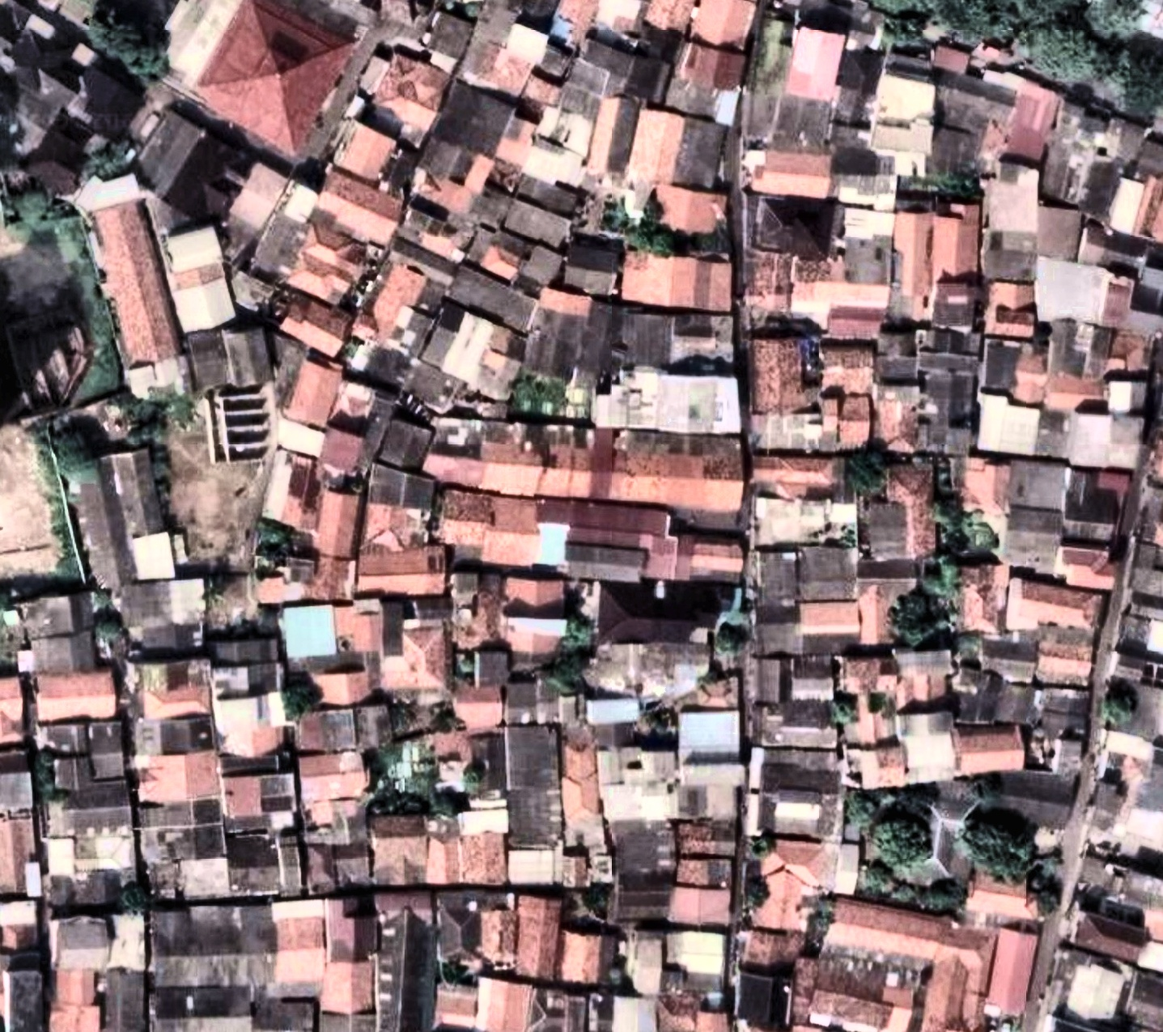building: (140, 0, 359, 161), (421, 413, 746, 512), (787, 891, 998, 1032), (736, 228, 898, 351), (584, 572, 722, 709), (62, 445, 177, 597), (86, 196, 186, 370), (122, 103, 255, 231), (150, 900, 275, 1031), (1025, 97, 1150, 224), (551, 466, 680, 583), (740, 11, 845, 149), (825, 893, 998, 974), (552, 26, 667, 140), (828, 651, 914, 794), (591, 364, 744, 437), (924, 65, 1014, 183), (136, 795, 233, 902), (456, 0, 555, 103), (864, 47, 942, 177), (624, 102, 728, 198), (461, 210, 569, 302), (431, 485, 546, 570), (1065, 847, 1163, 944), (157, 222, 239, 336), (0, 9, 95, 105), (912, 326, 981, 456), (210, 156, 293, 263), (246, 171, 325, 283), (282, 215, 375, 310), (309, 164, 410, 251), (15, 103, 104, 199), (610, 305, 735, 373), (57, 56, 150, 147), (755, 745, 843, 838), (376, 895, 436, 1031), (207, 636, 288, 735), (367, 44, 456, 134), (444, 310, 534, 399), (358, 461, 439, 559), (406, 133, 496, 220), (1039, 945, 1128, 1032), (114, 565, 214, 642), (519, 282, 595, 383), (430, 76, 519, 162), (619, 249, 736, 313), (859, 462, 936, 559), (444, 259, 542, 335), (504, 721, 563, 847), (596, 742, 682, 827), (519, 103, 601, 192), (296, 749, 372, 843), (379, 597, 452, 692), (20, 589, 98, 676), (411, 294, 490, 379), (118, 575, 206, 651), (744, 193, 839, 262), (555, 731, 607, 855), (186, 321, 276, 392), (499, 573, 568, 665), (272, 287, 357, 361), (359, 256, 431, 342), (392, 195, 477, 267), (1005, 574, 1104, 635), (261, 449, 332, 534), (990, 763, 1077, 832), (280, 349, 351, 433), (920, 946, 989, 1032), (623, 103, 688, 191), (202, 387, 275, 464), (294, 699, 394, 755), (43, 778, 134, 839), (435, 886, 509, 960), (982, 923, 1039, 1019), (997, 77, 1061, 162), (583, 90, 643, 180), (747, 332, 812, 415), (1056, 466, 1124, 544), (659, 65, 741, 129), (0, 67, 57, 159), (134, 747, 222, 806), (677, 707, 743, 785), (221, 766, 299, 832), (133, 656, 213, 720), (749, 862, 817, 937), (753, 495, 857, 544), (827, 142, 901, 210), (505, 671, 590, 730), (1065, 405, 1142, 470), (644, 531, 744, 581), (1119, 734, 1163, 846), (33, 665, 119, 722), (782, 18, 844, 97), (330, 116, 400, 185), (362, 459, 441, 520), (272, 898, 328, 984), (509, 891, 563, 980), (648, 180, 729, 239), (1065, 905, 1147, 963), (356, 544, 447, 595), (558, 233, 627, 300), (1035, 253, 1105, 319), (752, 695, 839, 748), (896, 707, 956, 783), (572, 296, 626, 380), (369, 812, 430, 886), (1094, 272, 1163, 337), (829, 43, 887, 120), (750, 451, 843, 499), (374, 408, 438, 476), (750, 147, 833, 199), (675, 37, 748, 96), (462, 39, 536, 97), (501, 194, 575, 251), (310, 484, 365, 560), (399, 356, 466, 418), (981, 338, 1048, 400), (995, 509, 1063, 570), (520, 134, 590, 193), (965, 870, 1042, 923), (608, 817, 676, 877), (955, 560, 1010, 634), (855, 495, 913, 564), (975, 392, 1039, 454), (915, 809, 968, 883), (732, 968, 793, 1032), (929, 198, 980, 273), (767, 831, 834, 888), (948, 662, 1005, 728), (974, 223, 1040, 280), (340, 336, 412, 388), (953, 723, 1025, 775), (562, 540, 647, 584), (216, 260, 279, 319), (1048, 317, 1112, 375), (324, 895, 378, 962), (984, 159, 1038, 225), (555, 926, 613, 987), (1004, 454, 1065, 512), (50, 913, 112, 970), (225, 831, 280, 895), (925, 773, 984, 832), (452, 577, 501, 648), (797, 543, 858, 600), (132, 714, 214, 756), (1077, 221, 1147, 270), (279, 601, 338, 659), (476, 975, 536, 1032), (1051, 541, 1122, 589), (1103, 679, 1162, 736), (663, 926, 727, 978), (743, 249, 794, 314), (873, 380, 919, 452), (332, 597, 387, 657), (750, 410, 824, 454), (620, 307, 674, 367), (310, 662, 376, 711), (738, 926, 804, 975), (49, 968, 100, 1031), (422, 6, 477, 64), (123, 353, 189, 401), (45, 869, 128, 907), (891, 209, 929, 292), (845, 741, 908, 791), (315, 422, 370, 479), (957, 456, 1010, 515), (1114, 176, 1160, 243), (984, 279, 1037, 337), (1035, 634, 1094, 686), (4, 959, 46, 1032), (513, 171, 581, 216), (691, 0, 756, 46), (320, 959, 375, 1013), (0, 814, 37, 893), (928, 274, 980, 330), (587, 695, 644, 746), (493, 109, 541, 169), (611, 875, 673, 921), (102, 968, 147, 1031), (1083, 772, 1130, 832), (623, 928, 665, 995), (330, 376, 380, 432), (980, 634, 1037, 682), (85, 717, 128, 780), (821, 343, 874, 394), (668, 884, 732, 926), (530, 988, 592, 1031), (220, 723, 287, 762), (463, 733, 505, 795), (107, 911, 150, 971), (1122, 964, 1162, 1028), (842, 233, 892, 284), (753, 549, 798, 605), (432, 980, 480, 1032), (1037, 686, 1089, 734), (460, 832, 507, 885), (753, 605, 804, 653), (1028, 206, 1080, 253), (453, 683, 503, 730), (991, 679, 1041, 726), (477, 905, 516, 965), (330, 837, 375, 889), (73, 833, 134, 871), (1043, 372, 1104, 410), (271, 416, 326, 458), (635, 19, 685, 65), (1125, 534, 1163, 594), (0, 747, 33, 814), (507, 845, 562, 885), (825, 304, 884, 341), (678, 783, 738, 819), (800, 599, 860, 635), (253, 998, 318, 1031), (876, 328, 917, 380), (677, 820, 736, 856), (231, 861, 283, 901), (0, 898, 39, 951), (675, 853, 733, 888), (1108, 329, 1153, 374), (1032, 408, 1069, 462), (790, 656, 835, 700), (856, 556, 919, 587), (836, 393, 871, 448), (858, 584, 890, 644), (753, 656, 792, 704), (1116, 611, 1163, 650), (892, 646, 953, 676), (556, 0, 598, 43), (0, 674, 25, 745), (533, 520, 570, 567), (427, 835, 461, 885), (303, 842, 337, 892), (832, 840, 862, 895), (535, 40, 575, 81), (596, 0, 644, 33), (612, 995, 656, 1031), (644, 0, 694, 31), (1048, 734, 1084, 777), (504, 613, 568, 637), (52, 754, 92, 792), (656, 996, 699, 1031), (41, 721, 87, 753), (1104, 377, 1147, 409), (473, 648, 509, 686), (427, 728, 467, 762), (929, 39, 970, 71), (45, 836, 76, 877), (347, 309, 380, 347), (317, 1011, 376, 1031), (1107, 653, 1146, 682), (561, 849, 590, 887), (0, 898, 36, 926), (587, 993, 613, 1031), (775, 800, 820, 820), (1097, 468, 1130, 495), (659, 964, 686, 995), (589, 851, 613, 882), (494, 305, 513, 323), (538, 501, 559, 517), (509, 318, 526, 330)
tree: (948, 795, 1048, 887), (880, 578, 957, 652), (614, 200, 686, 274), (122, 392, 200, 449), (834, 437, 899, 504), (43, 414, 106, 480), (11, 181, 76, 243), (870, 808, 932, 872), (850, 852, 913, 911), (540, 639, 599, 699), (81, 132, 144, 186), (935, 496, 997, 550), (838, 777, 892, 833), (271, 671, 326, 725), (919, 545, 968, 597), (1120, 57, 1162, 117), (893, 773, 943, 821), (1023, 868, 1070, 919), (557, 606, 602, 650), (115, 877, 157, 919), (931, 169, 984, 201), (256, 518, 297, 558), (572, 882, 612, 921), (919, 877, 966, 910), (428, 784, 467, 818), (199, 574, 232, 614), (92, 607, 124, 647), (1103, 685, 1137, 722), (1031, 847, 1067, 881), (713, 622, 747, 656), (749, 835, 775, 859), (834, 698, 857, 724)
